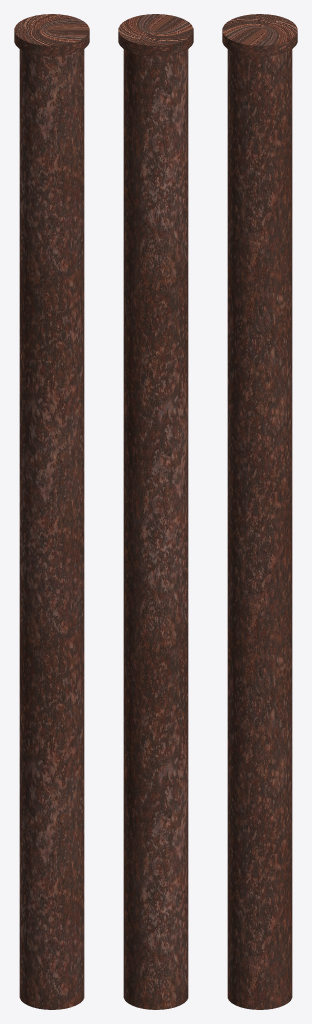
Rendered from pillar.FBX.
3 renders of one model, left to right at view 1: azimuth 90°, elevation 25°; view 2: azimuth 150°, elevation 25°; view 3: azimuth 330°, elevation 25°, orthographic.
Parts seen in each view (by area): view 1: Cylinder001, Cylinder002; view 2: Cylinder001, Cylinder002; view 3: Cylinder001, Cylinder002.
Boxes of the visible parts, <box> form: Cylinder001: <box>19,49,84,1009</box>; Cylinder002: <box>14,14,89,56</box>; Cylinder001: <box>123,49,188,1009</box>; Cylinder002: <box>118,14,193,56</box>; Cylinder001: <box>227,49,292,1009</box>; Cylinder002: <box>222,14,297,56</box>.
Size of the model in its own units: 5.34 by 75.41 by 5.31.
1 material, 1 textured.
